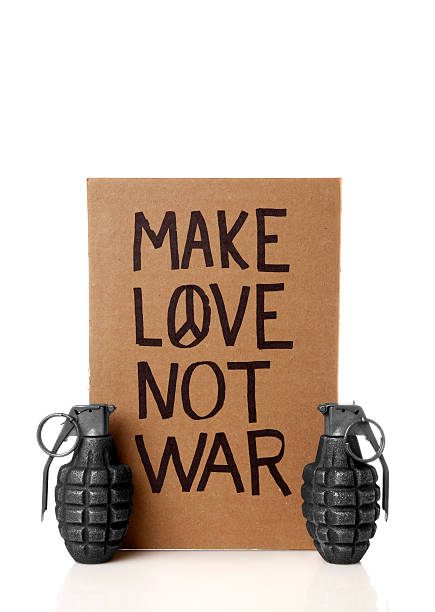e1: (40, 406, 131, 569), (301, 403, 390, 563)
